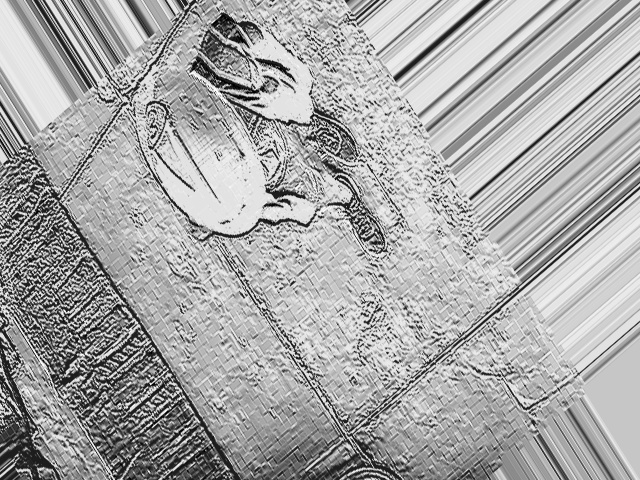three: (129, 96, 178, 154)
